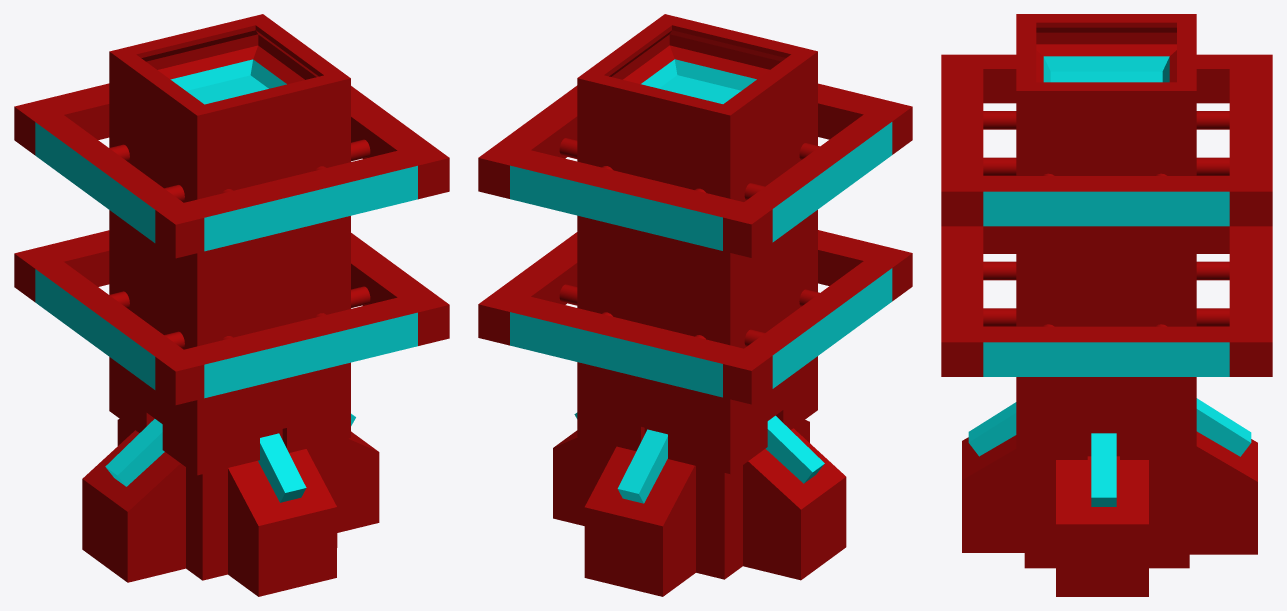
File: GJ_Envrio_Kit_Buildings_HL_23-07-2019_v6.fbx
The picture shows the model from 3 angles, left to right: view 1: azimuth 30°, elevation 25°; view 2: azimuth 150°, elevation 25°; view 3: azimuth 270°, elevation 25°; orthographic projection. The views are drawn at different scales.
Parts seen in each view (by area): view 1: Building_4_Cube_Tower1; view 2: Building_4_Cube_Tower1; view 3: Building_4_Cube_Tower1.
Boxes of the visible parts, x1,y1,x2,y2 form: Building_4_Cube_Tower1: (14,14,449,596); Building_4_Cube_Tower1: (478,14,912,596); Building_4_Cube_Tower1: (941,14,1272,596).
Size of the model in its own units: 863 by 1415 by 881.
